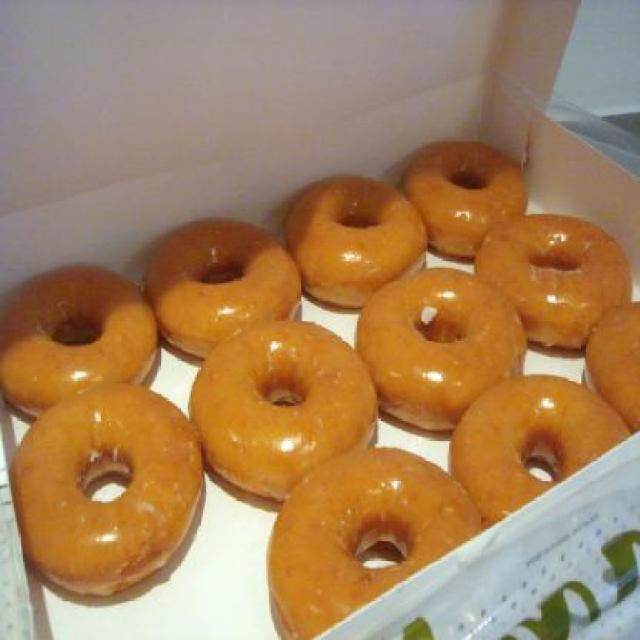Bagel: (13, 385, 199, 613), (263, 447, 481, 640), (185, 318, 381, 506), (446, 372, 632, 531), (354, 264, 528, 432), (0, 260, 166, 422), (144, 218, 302, 364), (474, 210, 634, 352), (284, 173, 428, 304), (402, 141, 532, 261), (580, 304, 640, 434)
